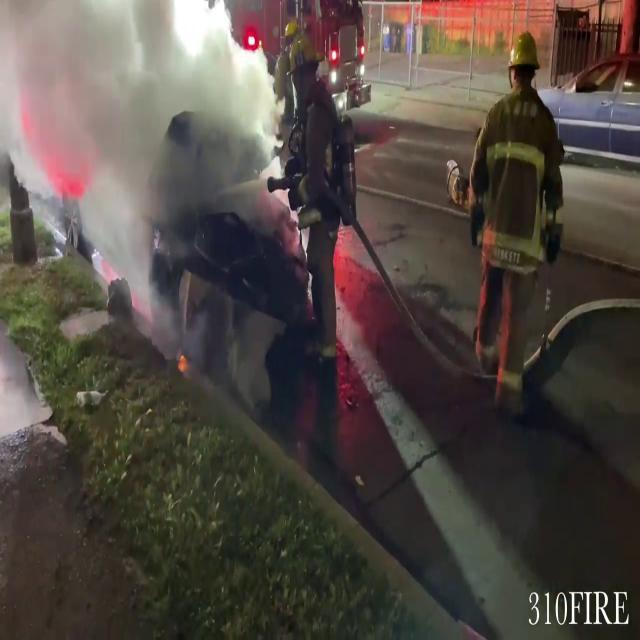Fire: (176, 347, 190, 378)
Smoke: (0, 0, 292, 206)
